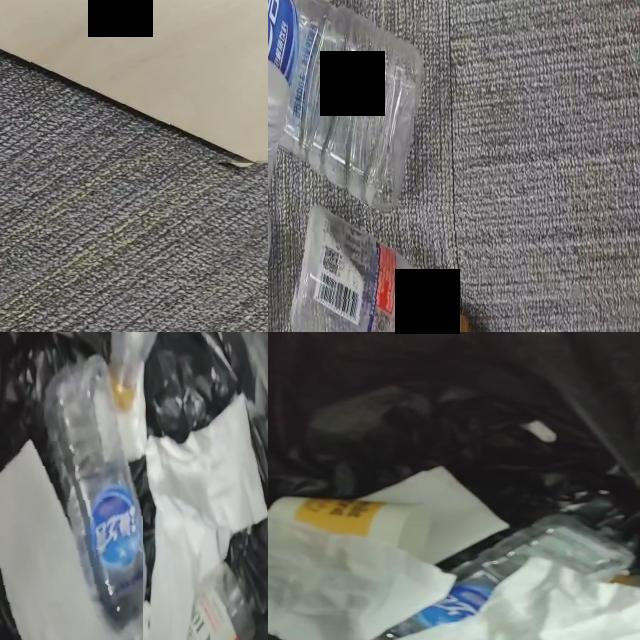bottle: (268, 0, 423, 211), (385, 517, 634, 638), (44, 355, 146, 640), (296, 206, 469, 332), (186, 562, 256, 640), (109, 332, 161, 416)
carton: (0, 0, 268, 165)
dixie_cup: (268, 498, 429, 558)
paper: (144, 395, 268, 640), (0, 441, 143, 640), (268, 512, 461, 640), (0, 441, 118, 640), (397, 558, 640, 640), (360, 467, 511, 564), (136, 603, 152, 640)
